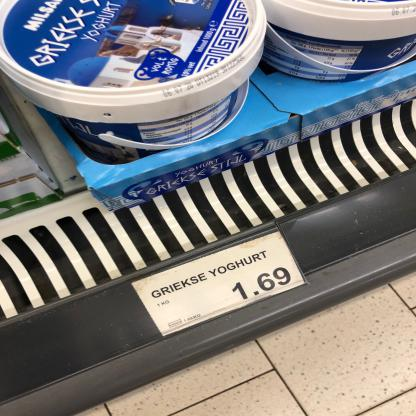prtg: (132, 232, 306, 338)
